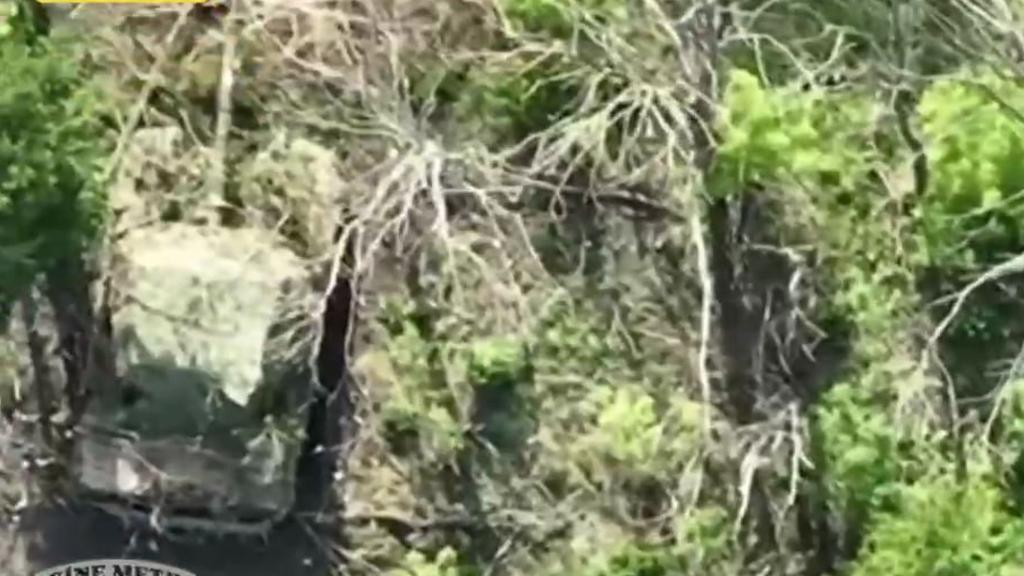TANK: (73, 21, 324, 528)
